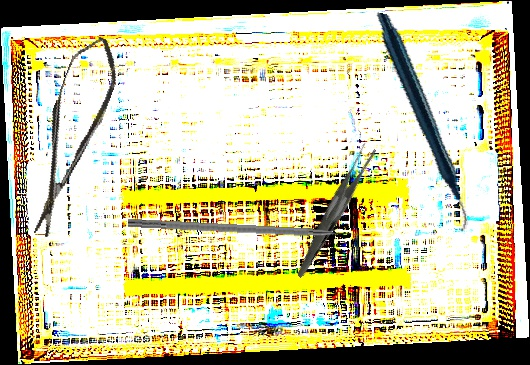Dressing Forceps: (263, 140, 405, 279)
Handpiece: (329, 11, 514, 233)
Hook Surgical: (127, 218, 366, 243)
Micro Scissor: (11, 30, 129, 242)
